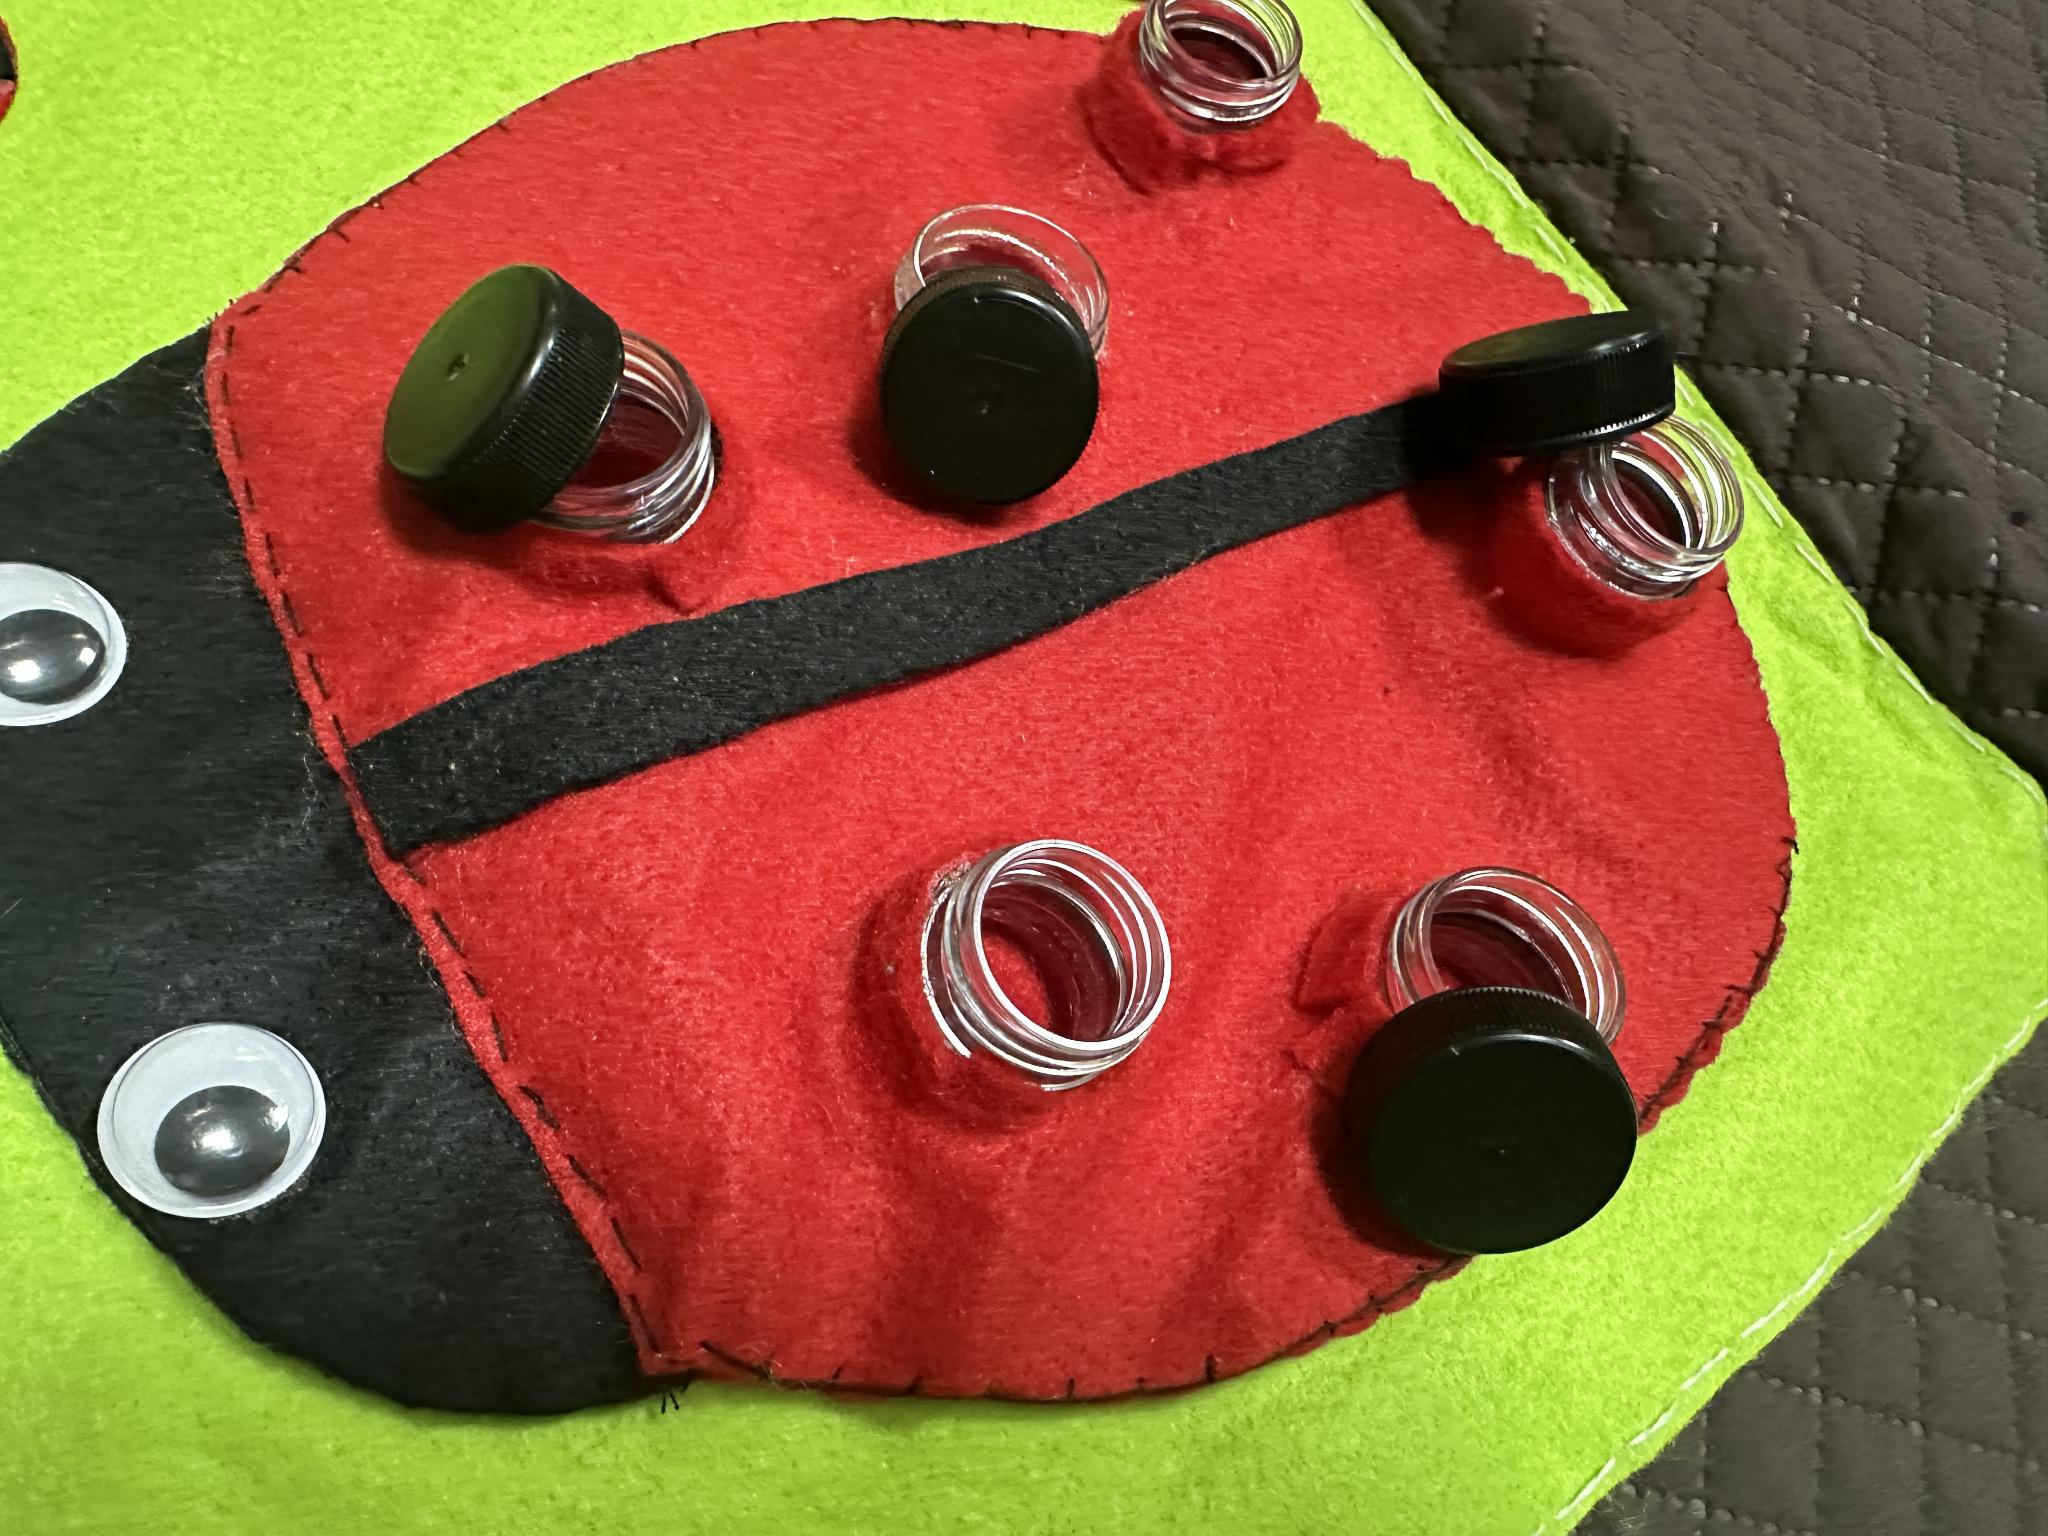cap_ng: (1330, 852, 1653, 1273), (363, 260, 751, 595), (1430, 286, 1742, 666), (874, 184, 1124, 526)
